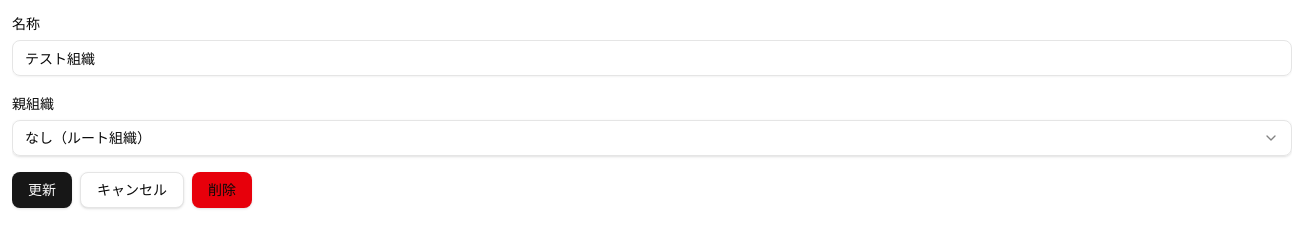
Test: OrganizationEditForm › should disable submit button while pending
The image size is (1304, 226).
Click the button "更新".
click(42, 190)  # box [12,172,72,208]
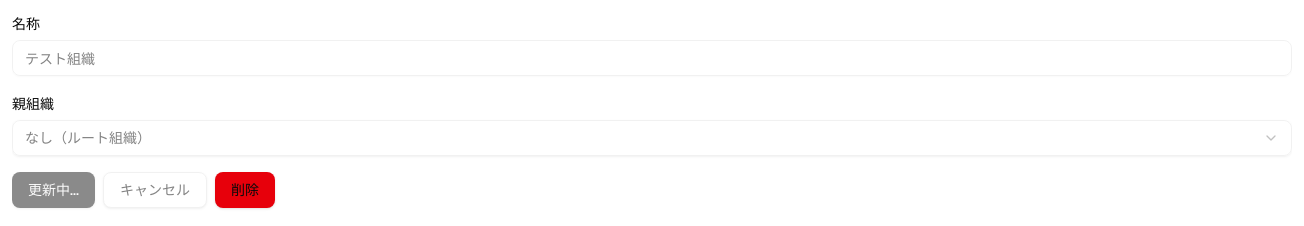
Check: the button "更新中..." is disabled, box [12,172,95,208]
